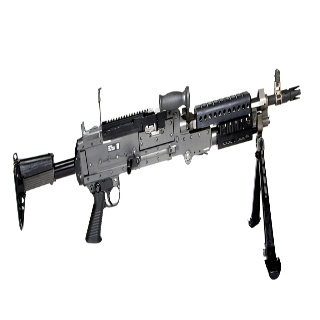rifle: (11, 66, 303, 243)
